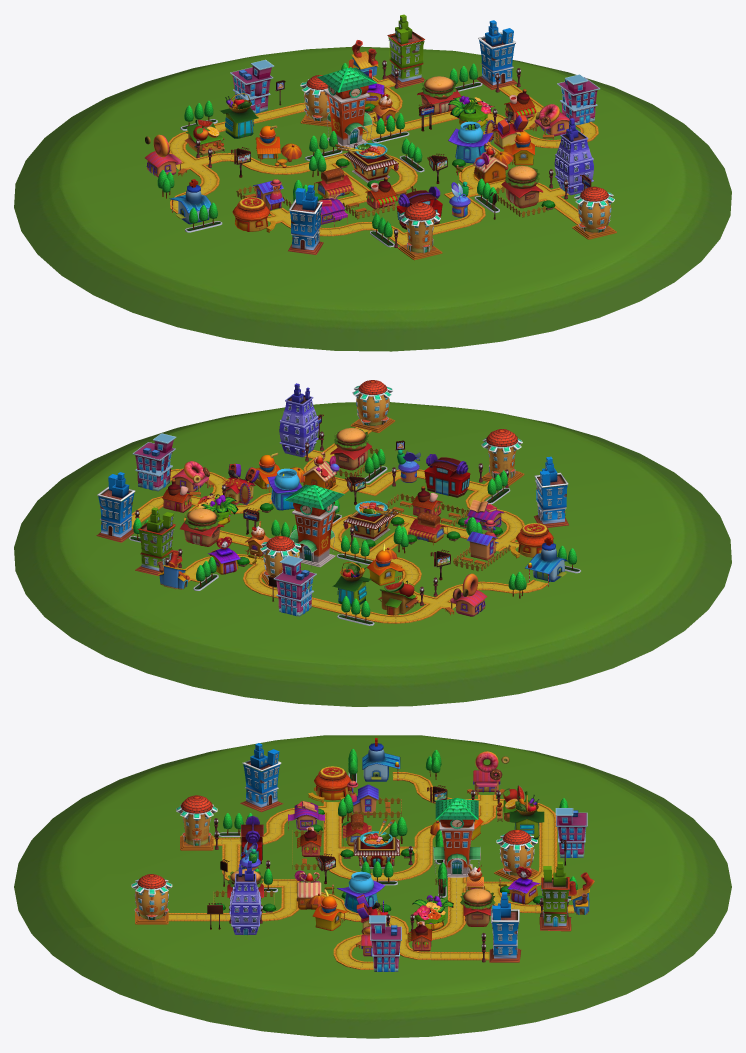
The picture shows the model from 3 angles, top to bottom: view 1: azimuth 30°, elevation 25°; view 2: azimuth 150°, elevation 25°; view 3: azimuth 270°, elevation 25°; orthographic projection.
Parts seen in each view (by area): view 1: Pod_sa_putem, Scena; view 2: Pod_sa_putem, Scena; view 3: Pod_sa_putem, Scena.
Part boxes in pixels (<box>): Pod_sa_putem: <box>14,46,731,351</box>; Scena: <box>145,14,616,260</box>; Pod_sa_putem: <box>14,402,731,706</box>; Scena: <box>96,380,580,625</box>; Pod_sa_putem: <box>14,735,731,1038</box>; Scena: <box>131,738,594,971</box>.
Size of what is drawn, in the model's own units: 41.97 by 6.26 by 41.97.
6 materials, 6 textured.
